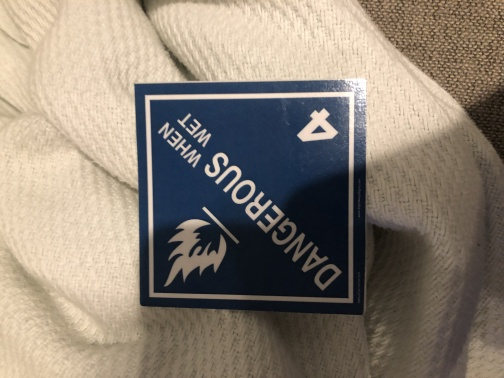DangerousWhenWet: (137, 85, 359, 307)
